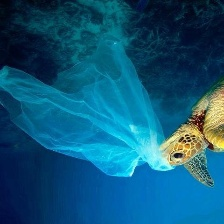plastic_bag: (0, 30, 176, 183)
